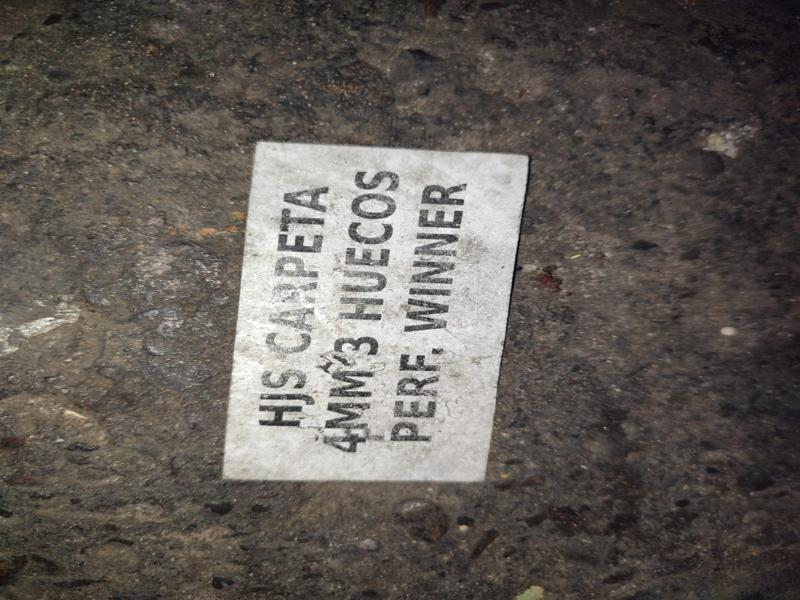papel: (220, 142, 530, 486)
